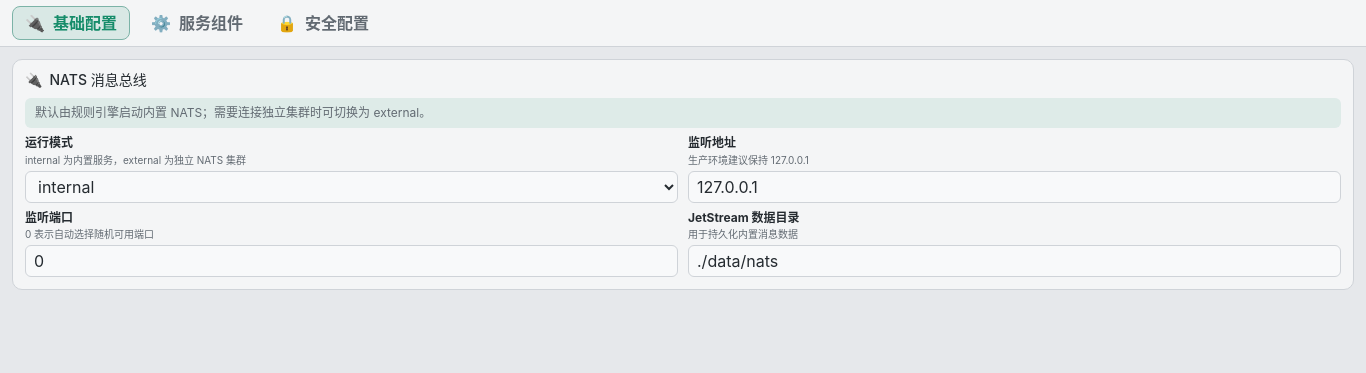
shows the Manager API port as a read-only bootstrap setting
Click the button "⚙️ 服务组件" at (197, 23), box [138,6,256,40]
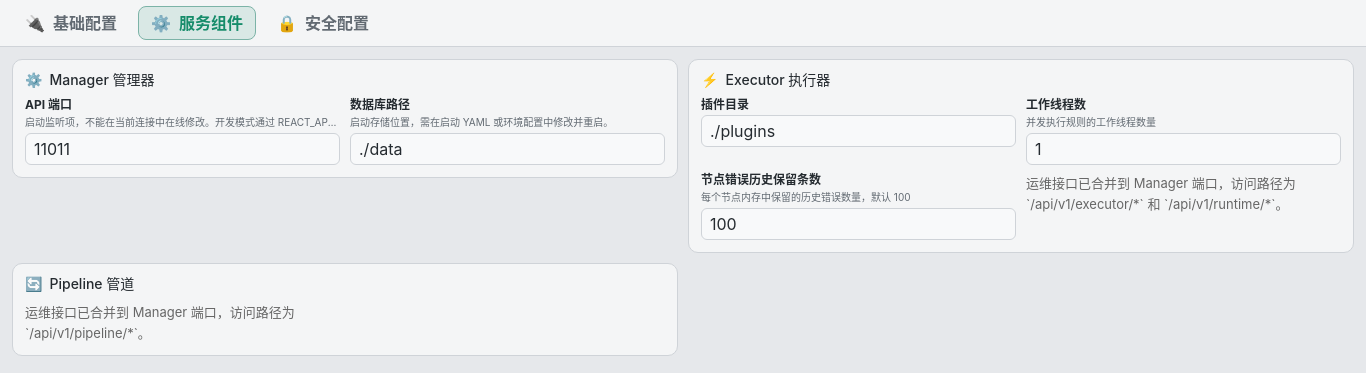
Result: the number field showing "11011" below "API 端口" is disabled at [25,133,340,165]
Result: the text "不能在当前连接中在线修改" is shown at [25,116,780,128]
